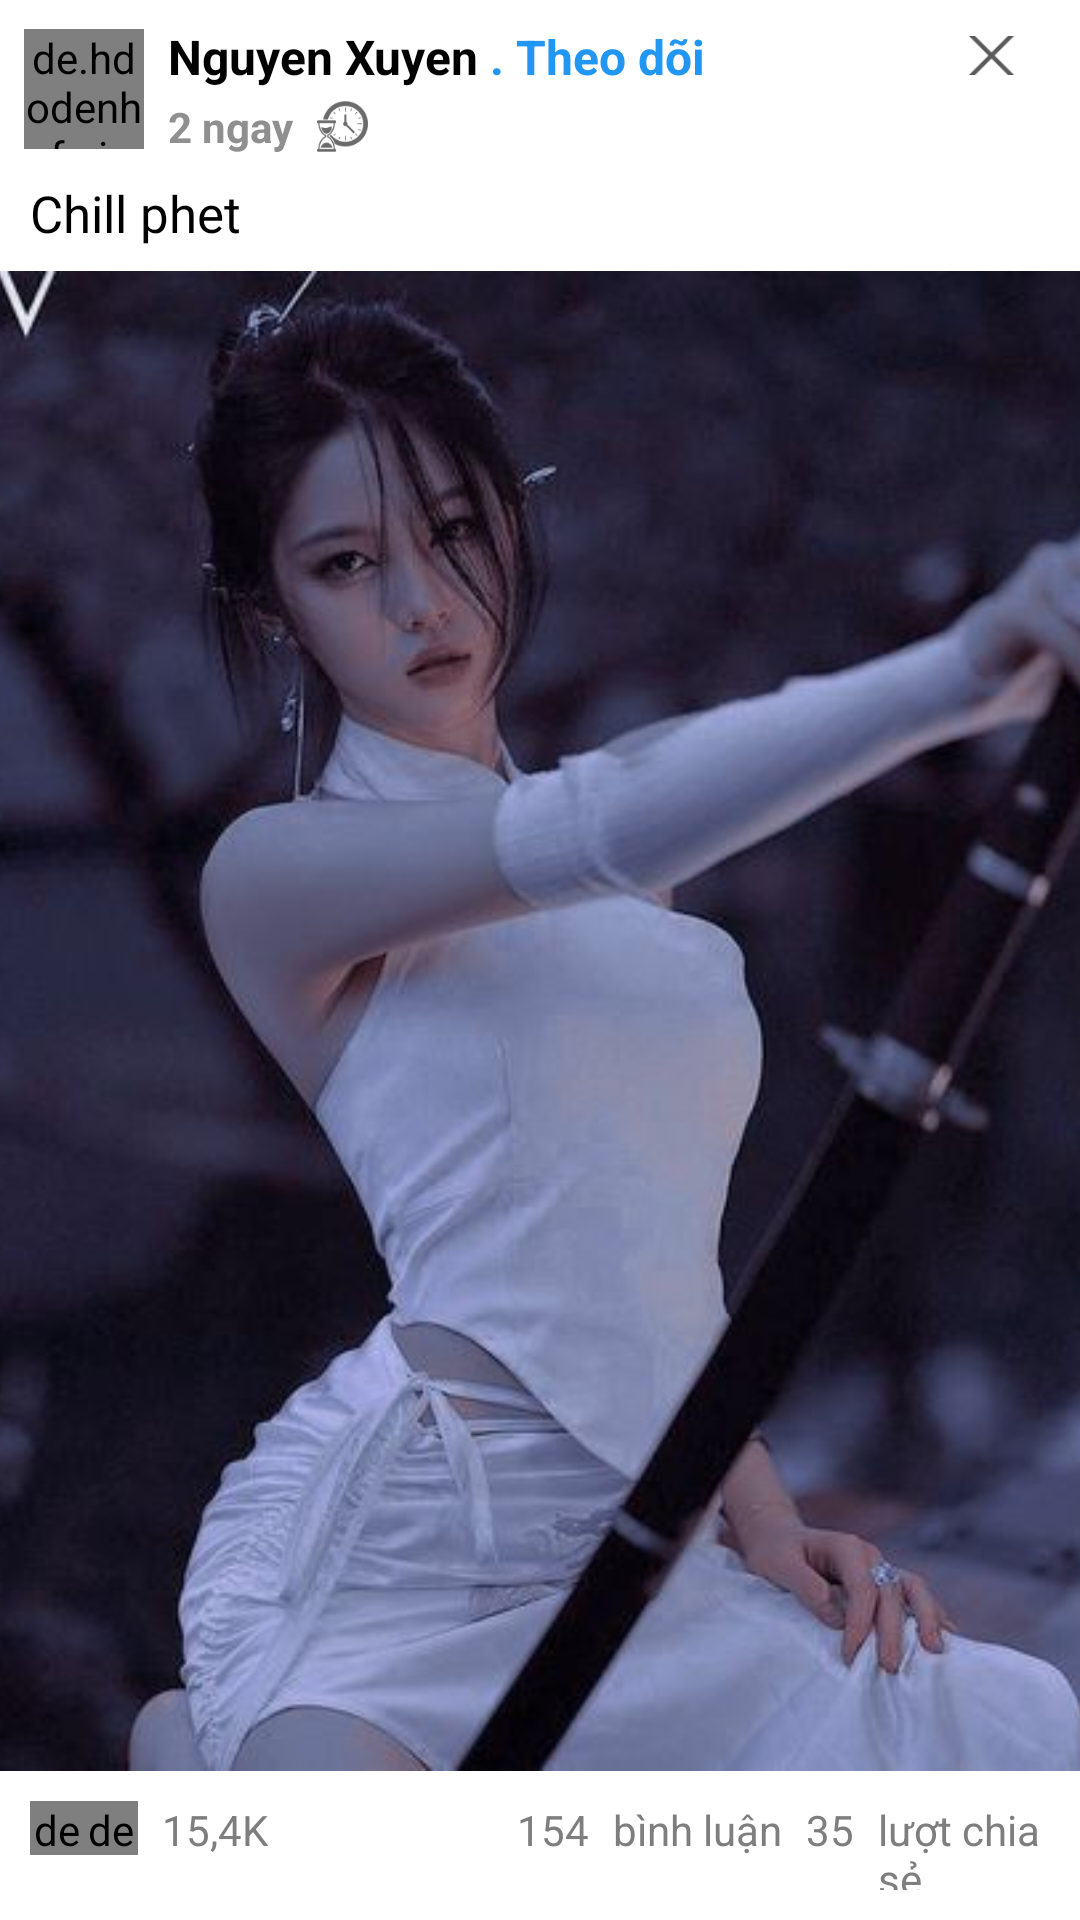

Named icons in this screenshot (1080px×1920px) and their bounding boxes, (x1, y1, x2, y2):
time: (317, 101, 368, 152)
